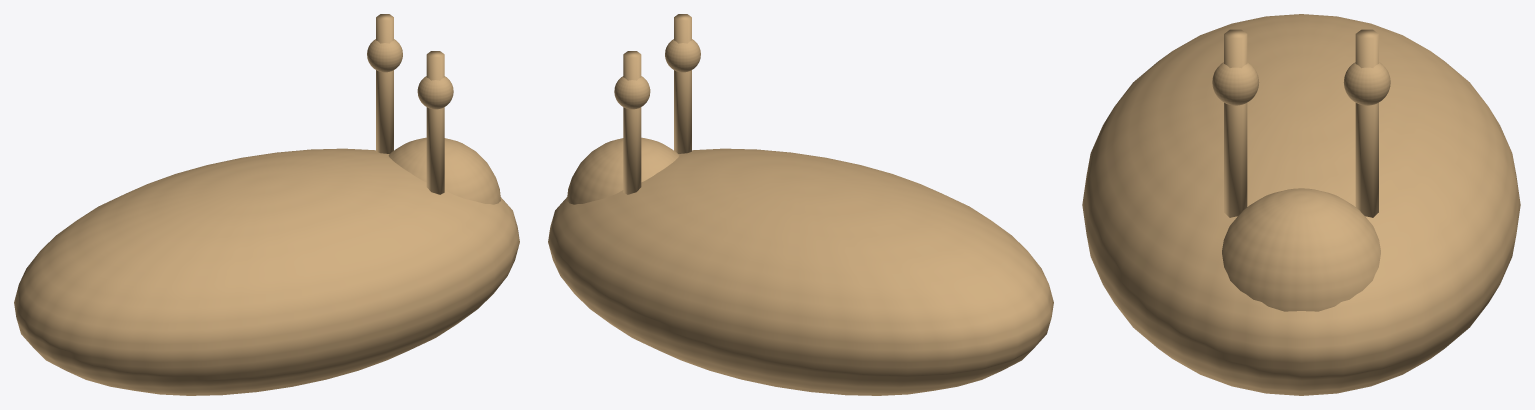
The model's file is tar_slug_03.glb.
3 views of the same model, side by side, from view 1: azimuth 30°, elevation 25°; view 2: azimuth 150°, elevation 25°; view 3: azimuth 270°, elevation 25° (orthographic). The views are drawn at different scales.
Visible parts, largest first — view 1: tar_slug_03; view 2: tar_slug_03; view 3: tar_slug_03.
Part boxes in pixels (<box>): tar_slug_03: <box>14,14,519,395</box>; tar_slug_03: <box>548,14,1053,395</box>; tar_slug_03: <box>1082,14,1520,395</box>.
Bounding box in the file's own units: 3.06 × 1.78 × 1.87.
